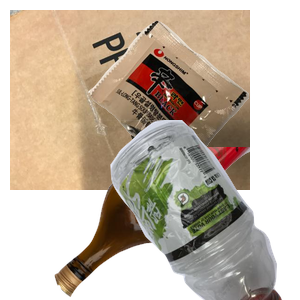cardboard: (10, 10, 250, 190)
glass: (52, 147, 292, 300)
plastic: (73, 120, 300, 300)
trash: (86, 18, 300, 194)
